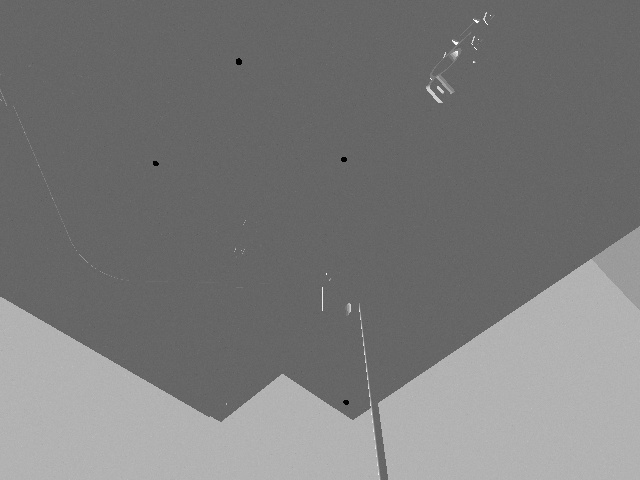hole: (234, 56, 244, 67), (339, 155, 349, 164), (341, 398, 351, 407), (151, 159, 160, 168)
